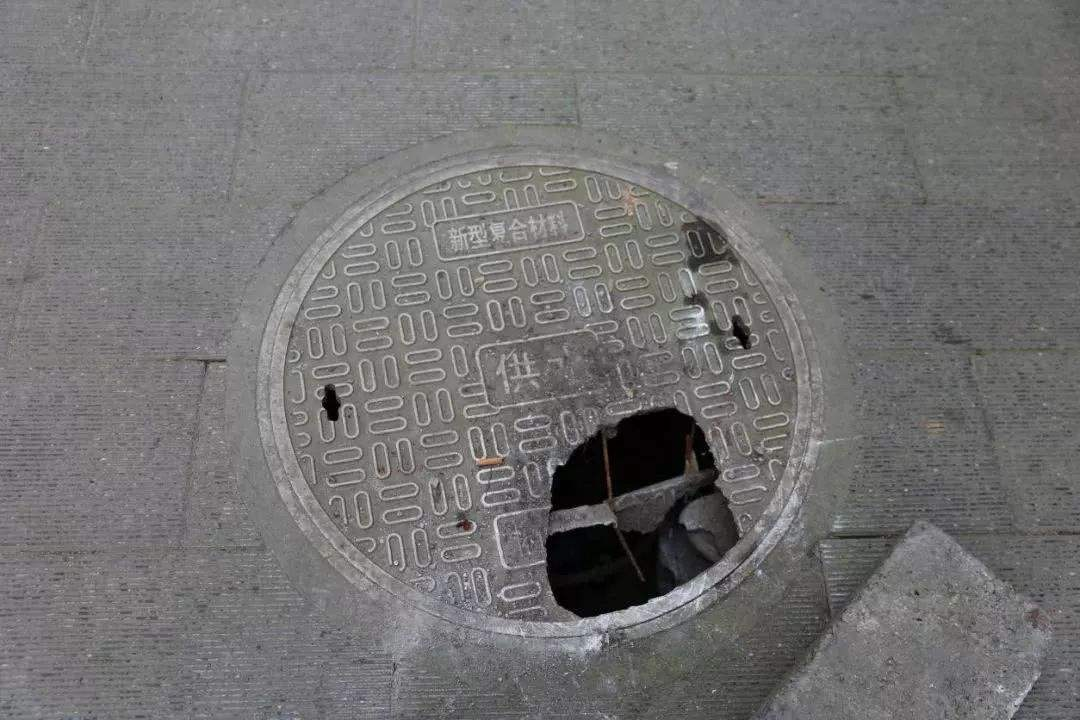well: (261, 144, 819, 637)
